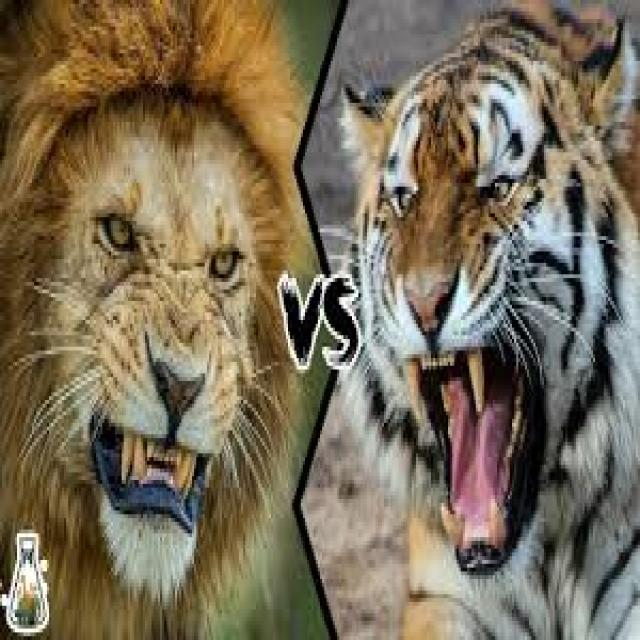Lion: (4, 28, 308, 626)
